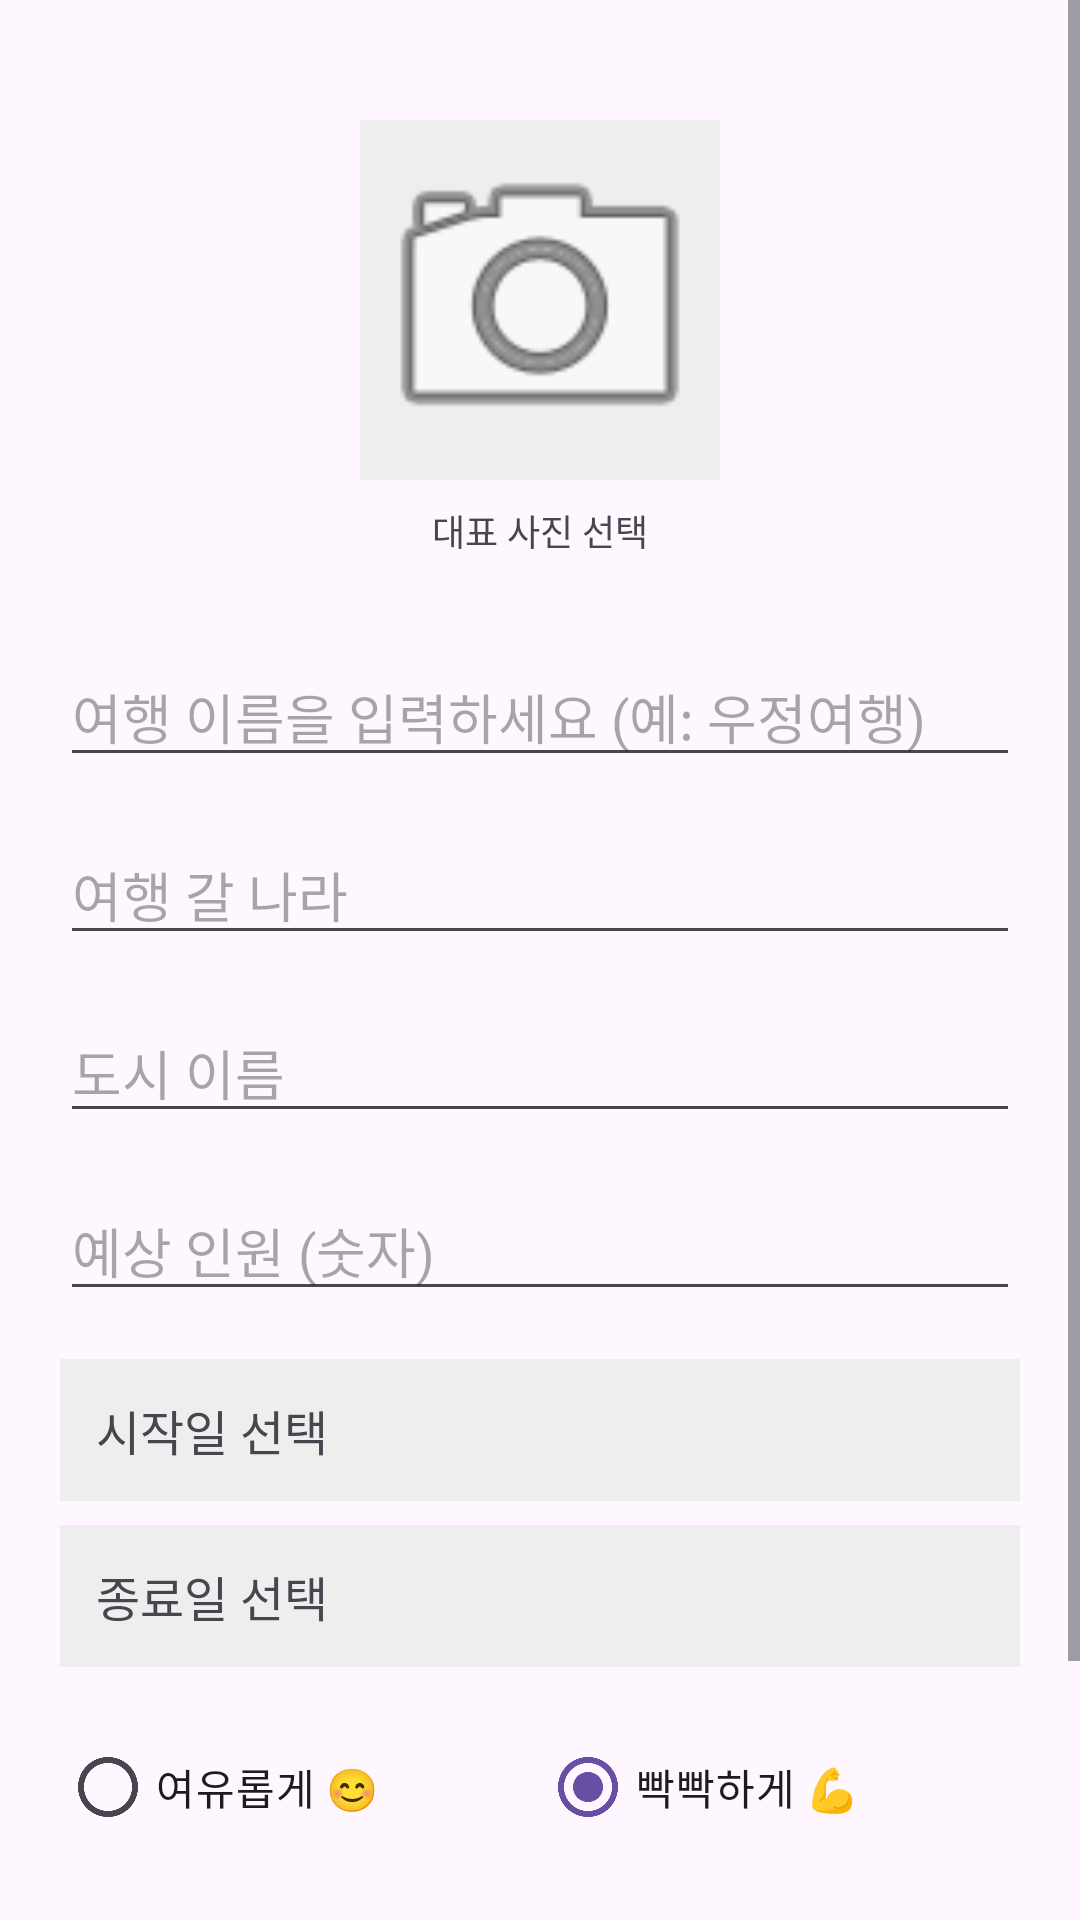

Point at icon controls on the screen. Image size 1080 x 1920, points as [x,y].
camera: [540,300]
